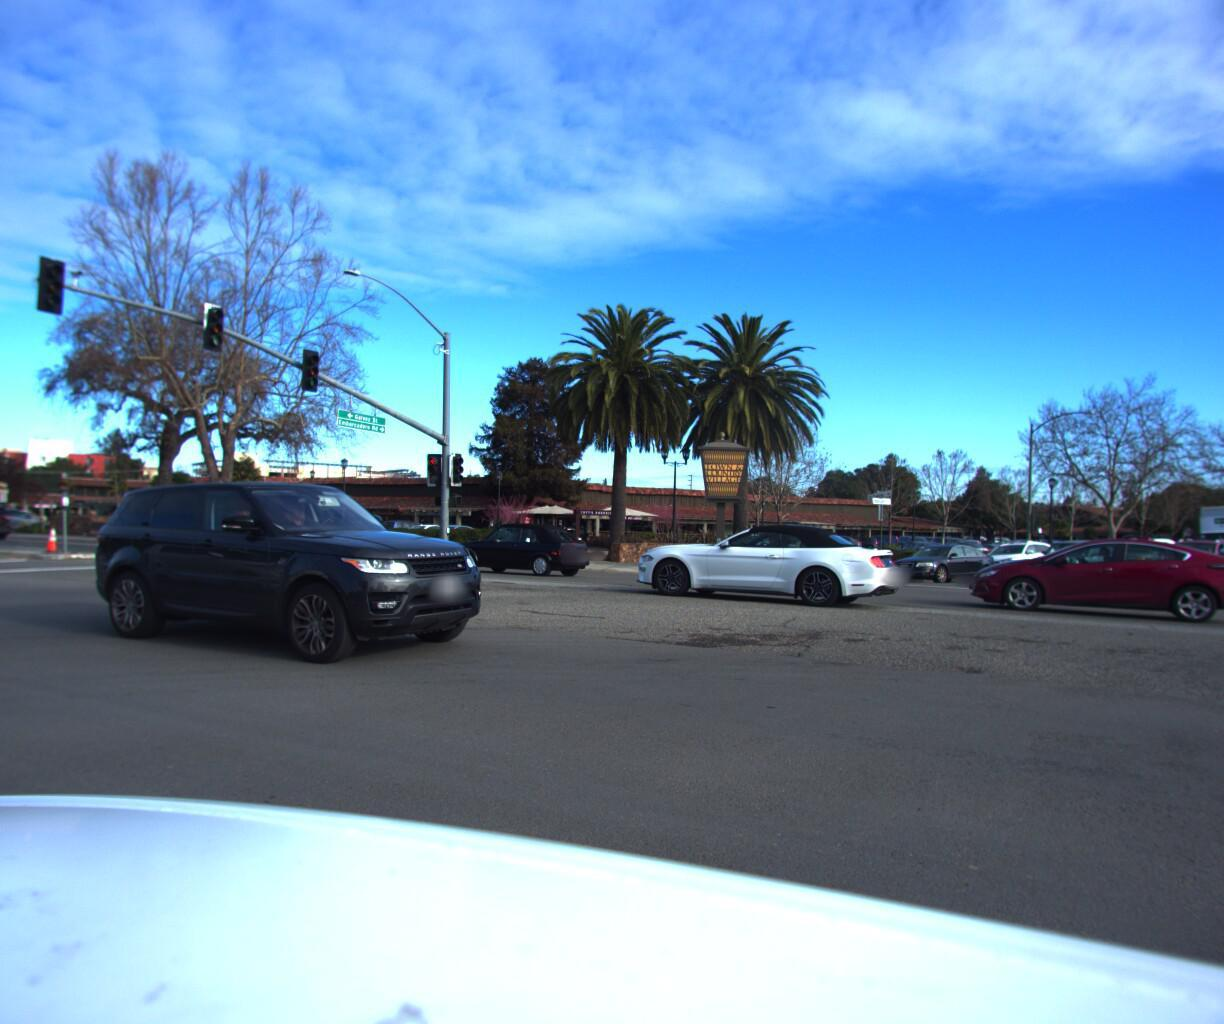car: (74, 464, 515, 674), (623, 511, 915, 614), (969, 522, 1224, 622), (436, 517, 591, 575), (878, 531, 995, 579), (1020, 529, 1123, 581), (1084, 525, 1183, 576), (1140, 528, 1224, 586), (966, 532, 1068, 578), (1209, 542, 1224, 581)
truck: (1171, 489, 1224, 584)
